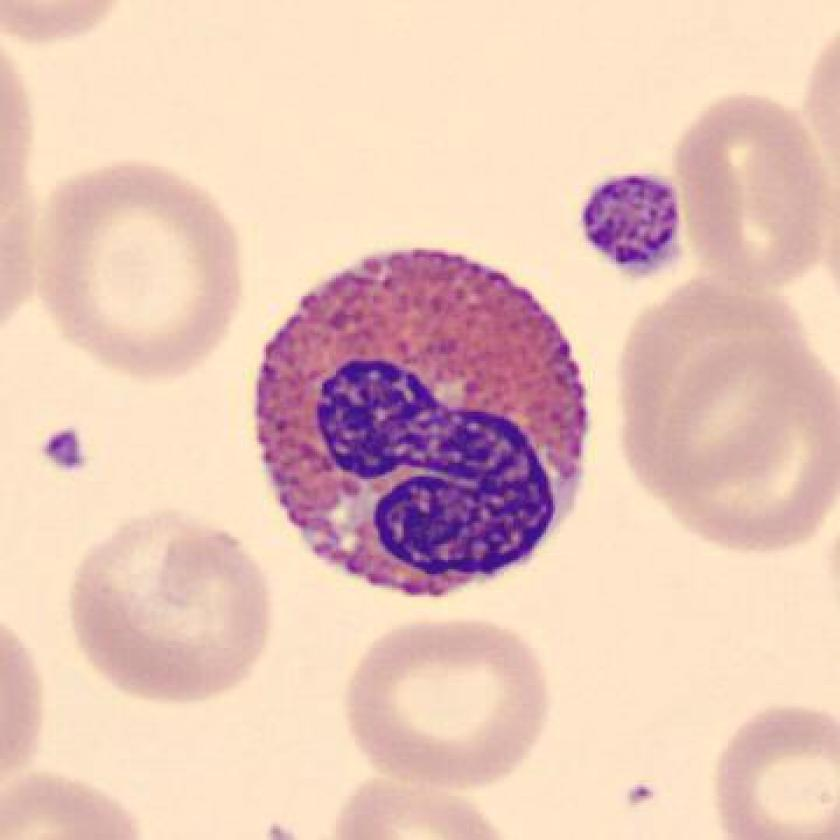eosinophil: (239, 235, 608, 610)
